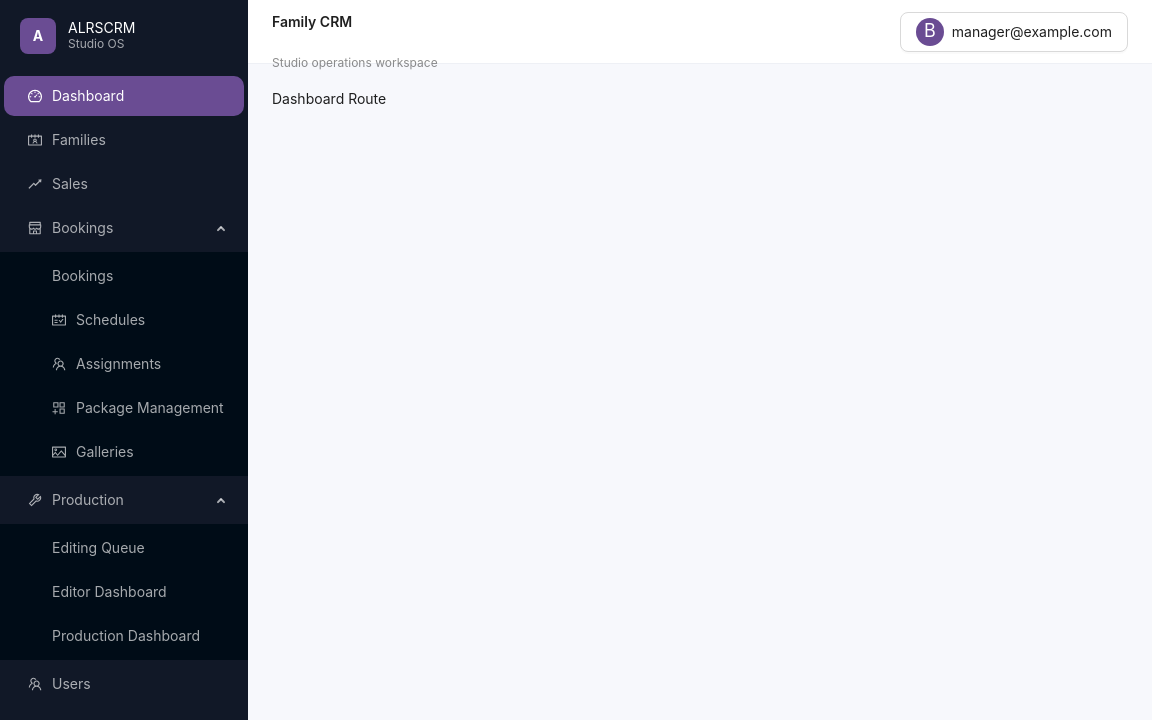
Test: DashboardLayout › navigates to package management from the bookings menu
Check: the 1st text "Bookings" is shown, box [52,219,113,236]
Click the menu item "Package Management".
click(138, 408)  # box [52,399,224,416]
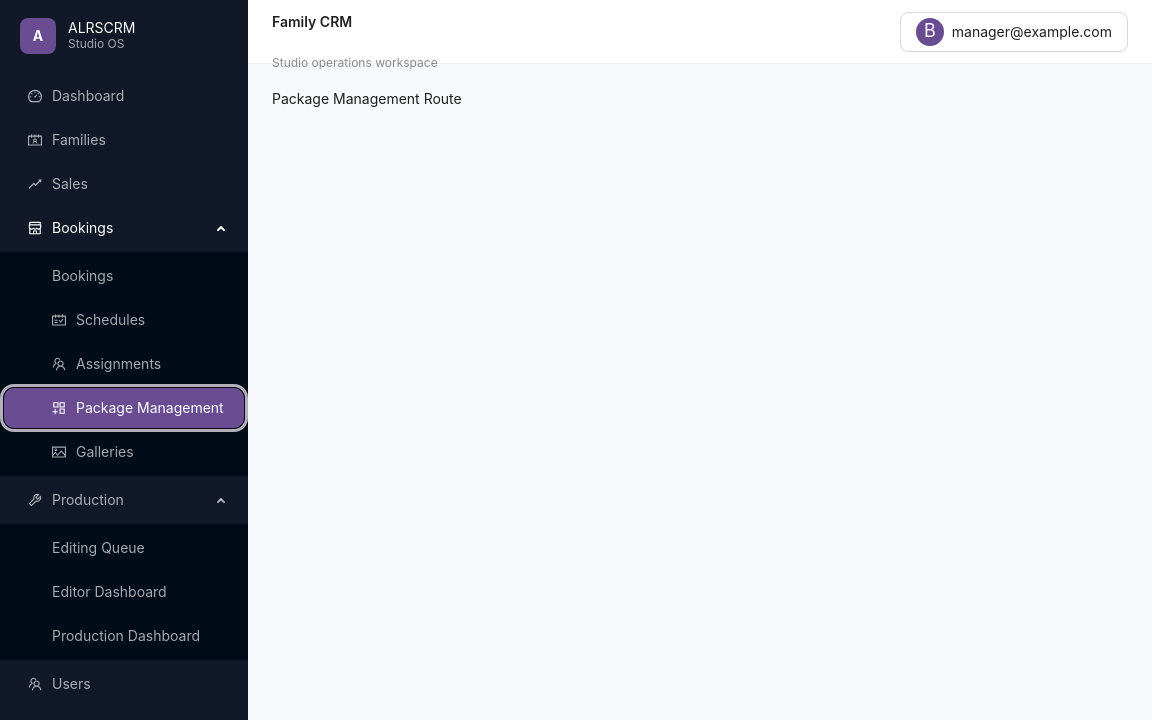
Check: the text "Package Management Route" is shown, box [272,90,462,107]
